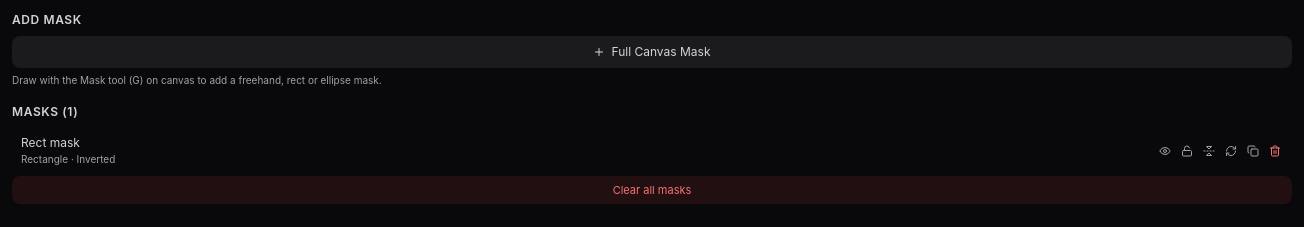
it: MasksPanel › double-clicking a mask name renames it with one history entry
This screenshot has width=1304, height=227.
Step 1. Double-click the text "Rect mask" → (50, 142), box [21, 135, 80, 150]
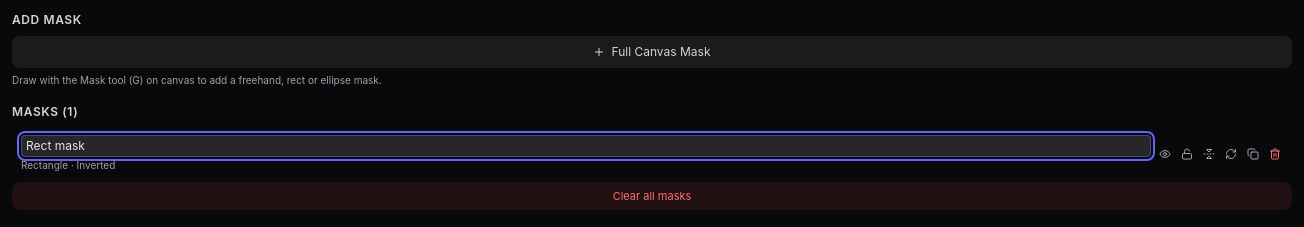
Step 2. Replace the text in the field showing "Rect mask" with "Canvas hole" → (586, 146), box [21, 135, 1151, 157]
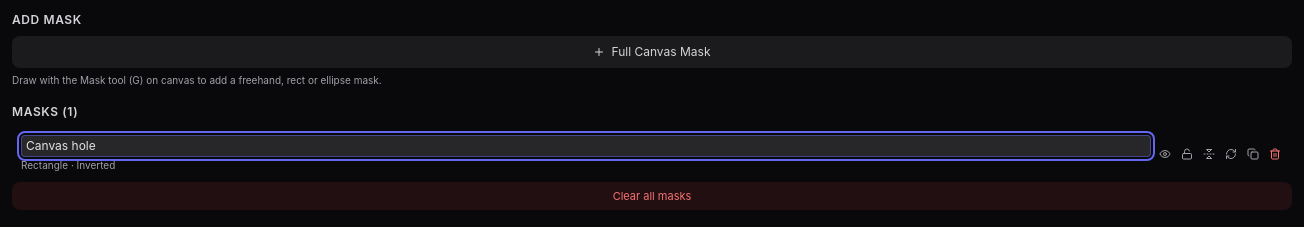
Step 3. Press Enter in the field showing "Rect mask", box [21, 135, 1151, 157]
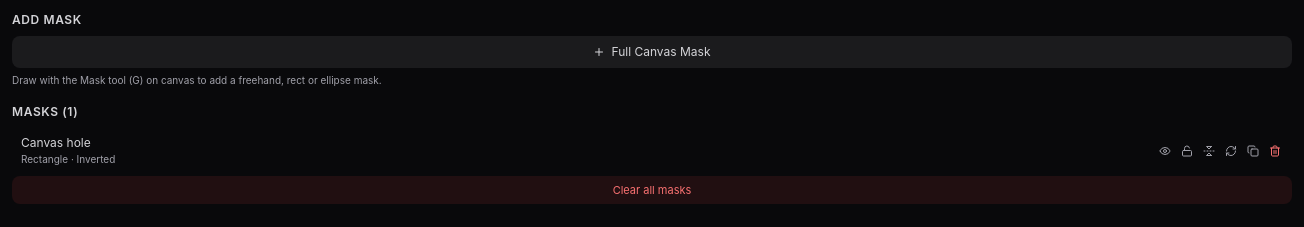
Expected: the text "Canvas hole" is shown, [21, 135, 91, 150]
